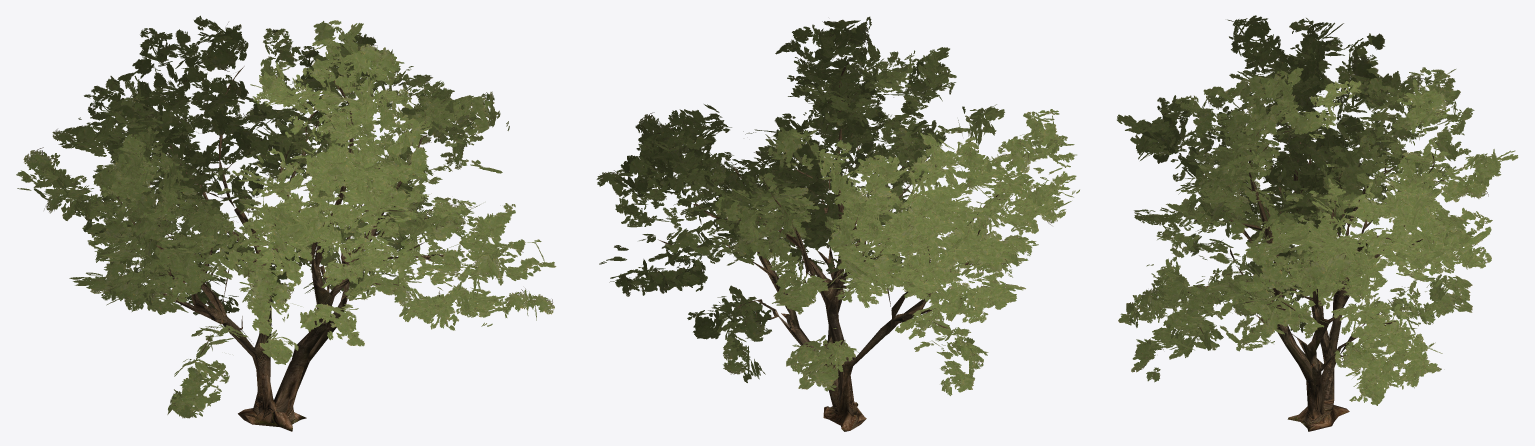
The picture shows the model from 3 angles, left to right: view 1: azimuth 30°, elevation 25°; view 2: azimuth 150°, elevation 25°; view 3: azimuth 270°, elevation 25°; orthographic projection. The views are drawn at different scales.
Visible parts, largest first — view 1: jacaranda_tree_lod1; view 2: jacaranda_tree_lod1; view 3: jacaranda_tree_lod1.
Boxes of the visible parts, x1,y1,x2,y2 form: jacaranda_tree_lod1: [16, 15, 556, 431]; jacaranda_tree_lod1: [596, 16, 1079, 431]; jacaranda_tree_lod1: [1117, 15, 1518, 431].
Bounding box in the file's own units: 24.64 × 19.55 × 19.31.
3 materials, 3 textured.
